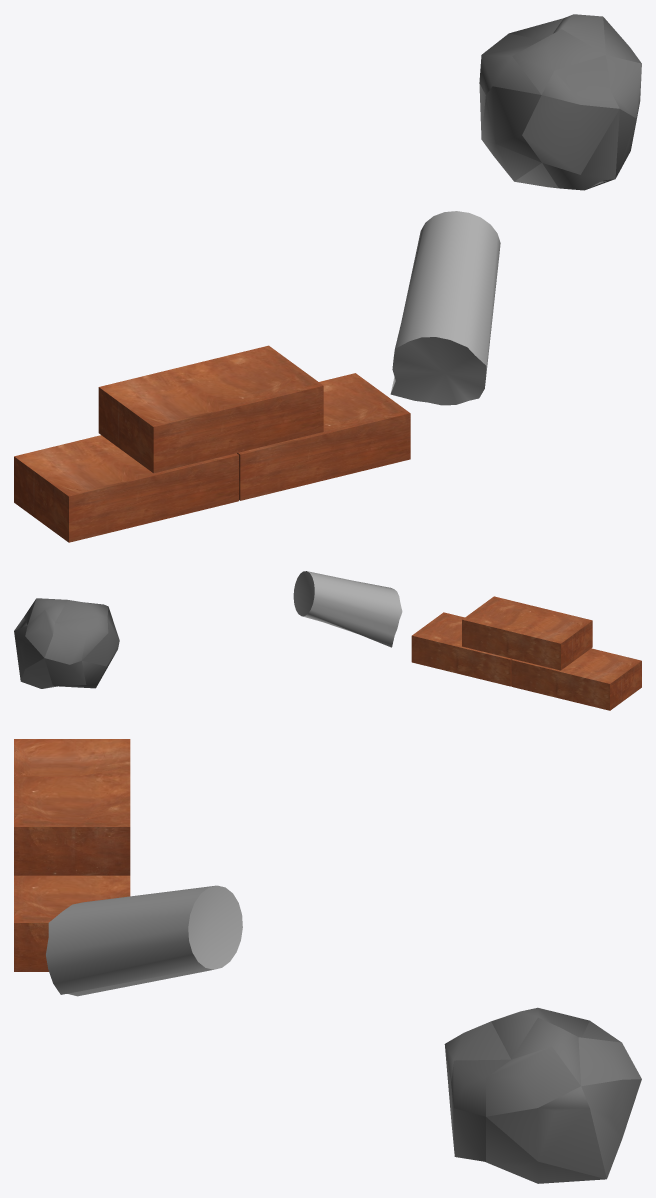
File: Recursos.fbx
The picture shows the model from 3 angles, top to bottom: view 1: azimuth 30°, elevation 25°; view 2: azimuth 150°, elevation 25°; view 3: azimuth 270°, elevation 25°; orthographic projection. The views are drawn at different scales.
Visible parts, largest first — view 1: arcilla, stone, wood; view 2: arcilla, stone, wood; view 3: stone, arcilla, wood.
Part boxes in pixels (x1,y1,x2,y2): arcilla: (14, 345, 410, 542); stone: (479, 14, 641, 190); wood: (390, 211, 500, 405); arcilla: (411, 596, 641, 710); stone: (14, 598, 119, 688); wood: (293, 571, 402, 647); stone: (444, 1007, 641, 1183); arcilla: (14, 739, 130, 971); wood: (46, 885, 242, 996).
Size of the model in its own units: 8.59 by 1.54 by 5.41.
3 materials, 1 textured.
